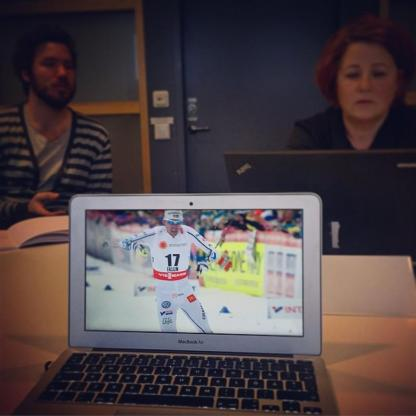board: (16, 197, 346, 416), (224, 152, 415, 268)
